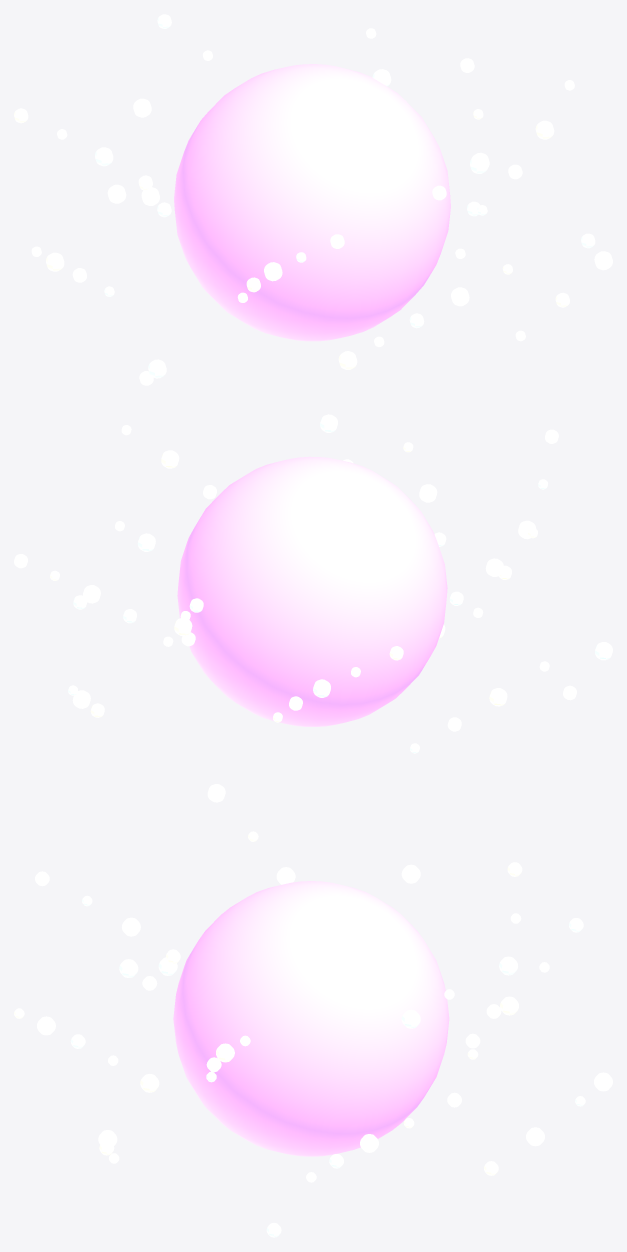
Rendered from aura_cosmic.glb.
3 renders of one model, top to bottom at view 1: azimuth 30°, elevation 25°; view 2: azimuth 150°, elevation 25°; view 3: azimuth 270°, elevation 25°, orthographic. The views are drawn at different scales.
Parts seen in each view (by area): view 1: nebula_core; view 2: nebula_core; view 3: nebula_core.
Boxes of the visible parts, left/top/right/bottom form: nebula_core: left=174, top=64, right=450, bottom=341; nebula_core: left=177, top=456, right=447, bottom=726; nebula_core: left=173, top=881, right=449, bottom=1156.
Size of the model in its own units: 2.84 by 1.3 by 2.82.
